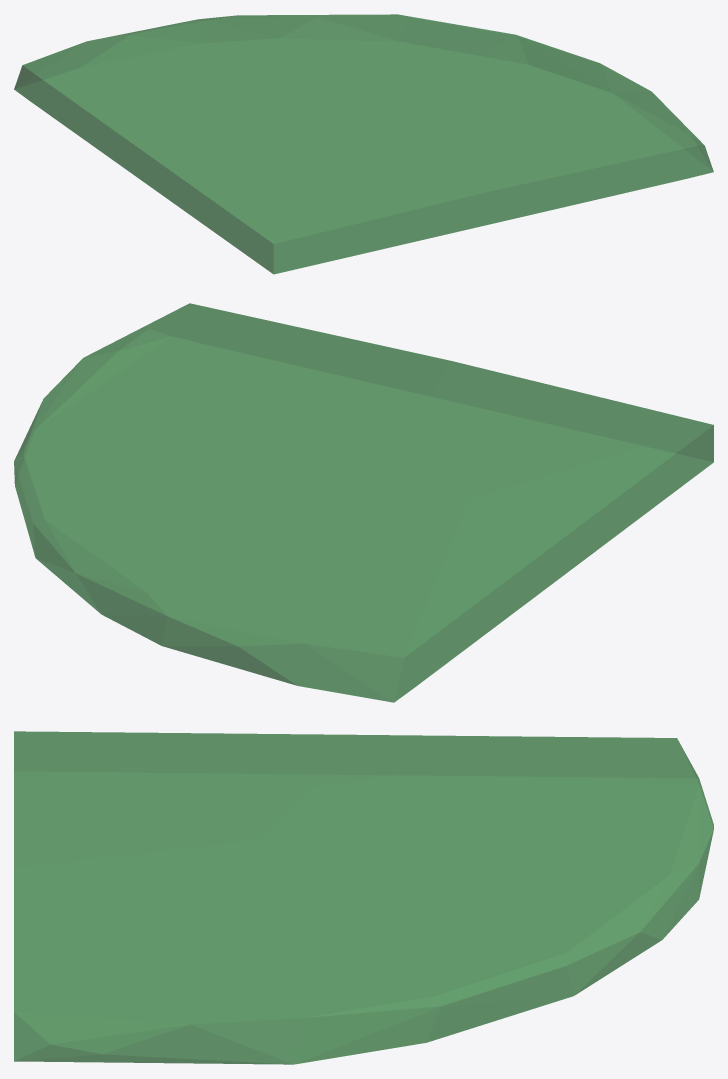
The picture shows the model from 3 angles, top to bottom: view 1: azimuth 30°, elevation 25°; view 2: azimuth 150°, elevation 25°; view 3: azimuth 270°, elevation 25°; orthographic projection. The views are drawn at different scales.
Visible parts, largest first — view 1: Shape_IndexedFaceSet.003_Shape_IndexedFaceSet.10807; view 2: Shape_IndexedFaceSet.003_Shape_IndexedFaceSet.10807; view 3: Shape_IndexedFaceSet.003_Shape_IndexedFaceSet.10807.
Part boxes in pixels (bbox=[...]): Shape_IndexedFaceSet.003_Shape_IndexedFaceSet.10807: bbox=[14, 14, 713, 274]; Shape_IndexedFaceSet.003_Shape_IndexedFaceSet.10807: bbox=[14, 303, 713, 702]; Shape_IndexedFaceSet.003_Shape_IndexedFaceSet.10807: bbox=[14, 731, 713, 1064].
Size of the model in its own units: 0.1637 by 0.0123 by 0.1672.
